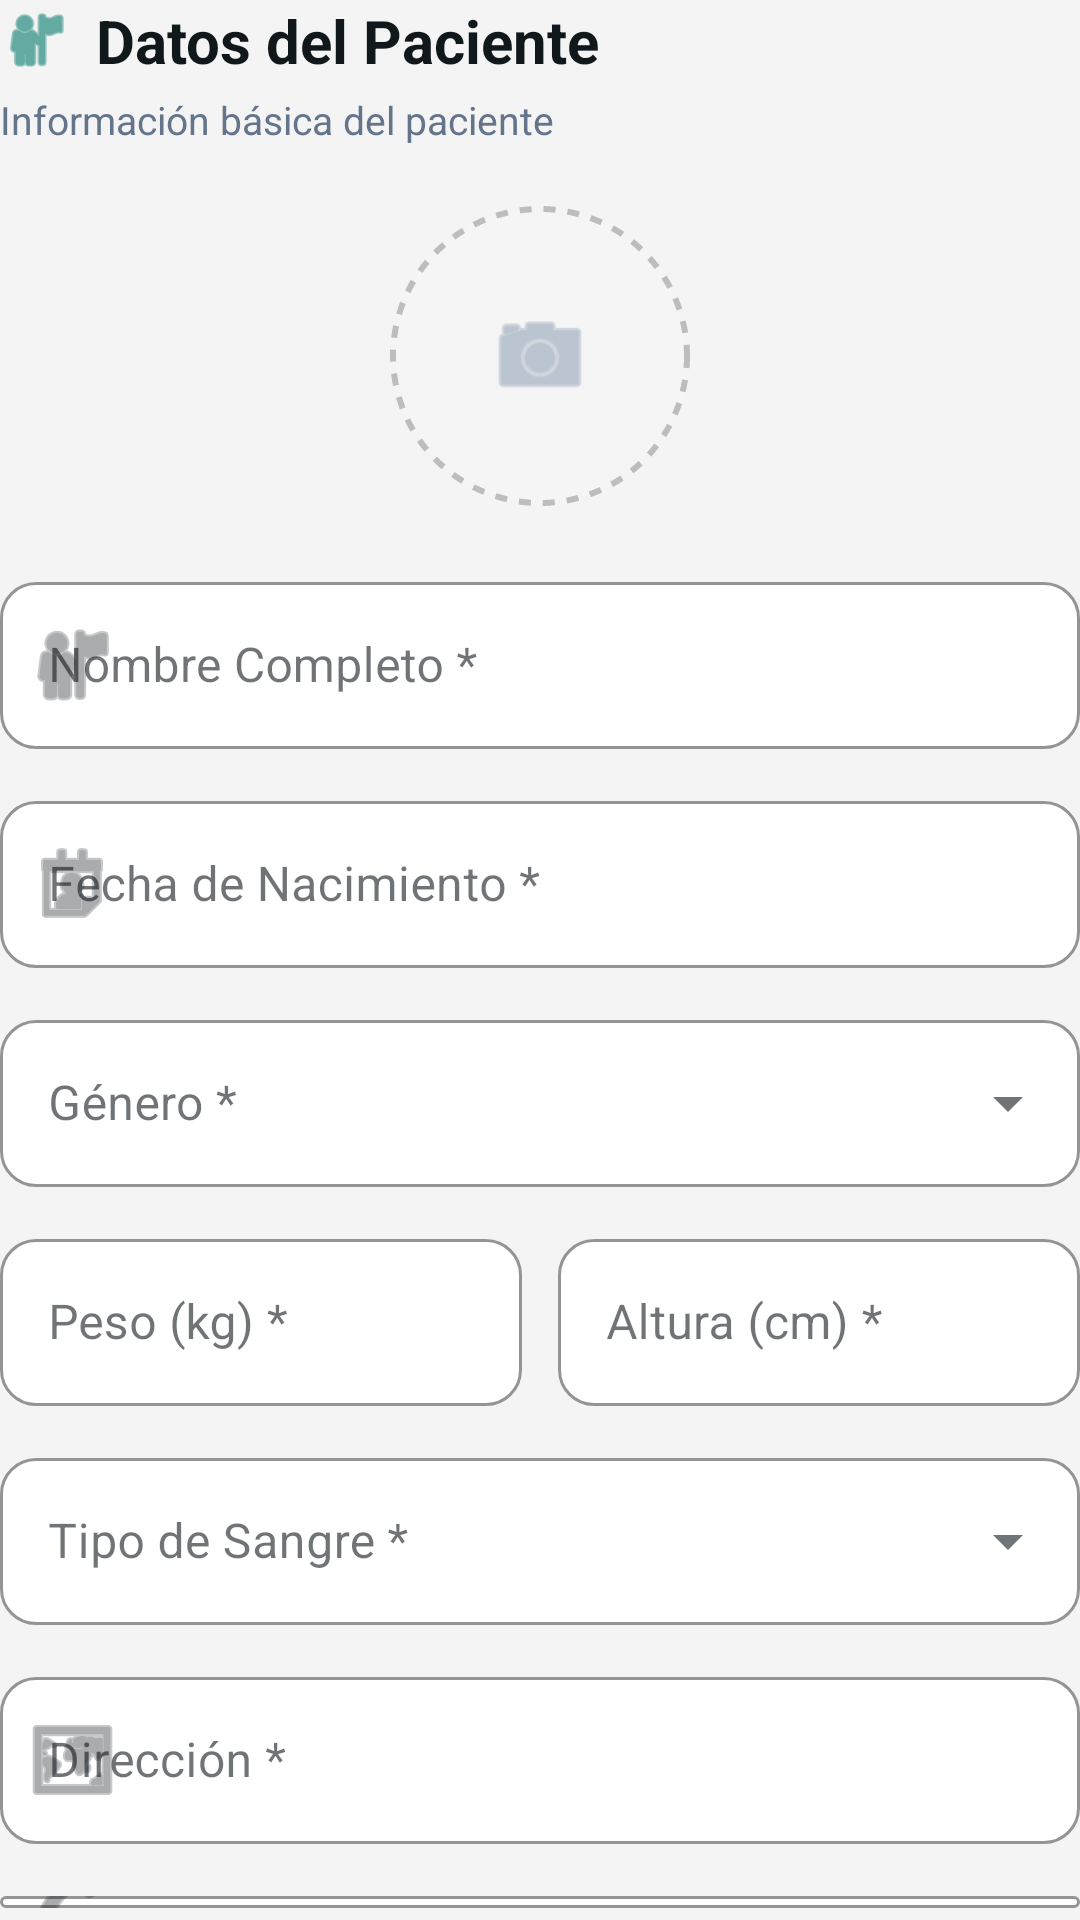

Where icons sit on this 1080×1920 app screen, as region(x1, y1, x2, y2):
camera: region(499, 322, 581, 387)
